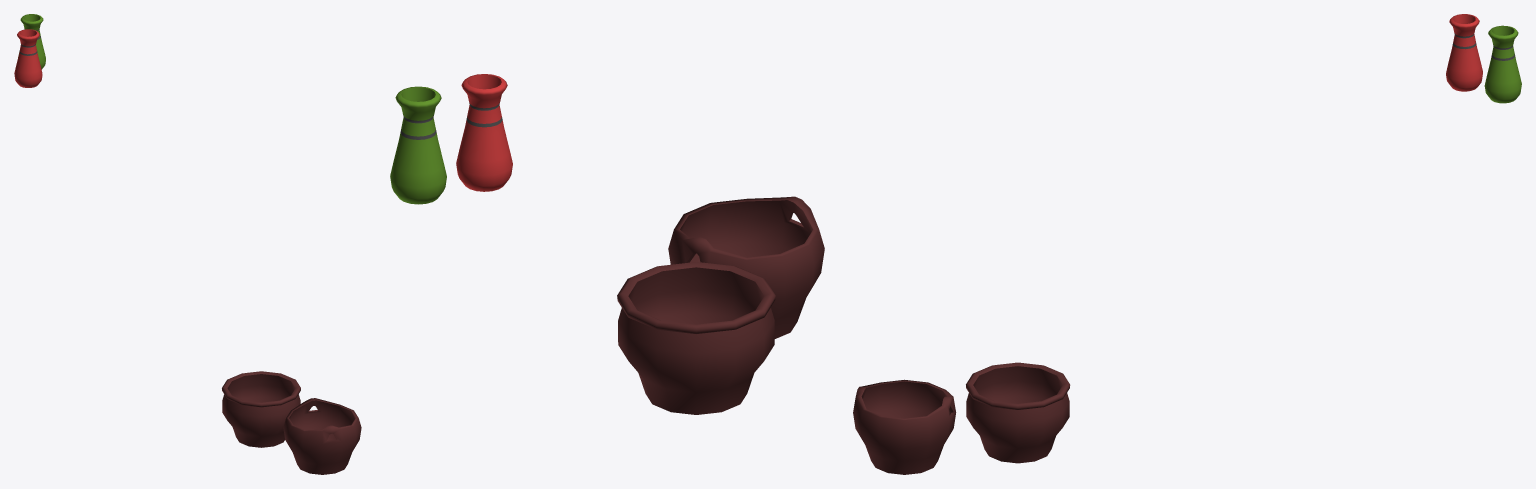
Rendered from objetos_greda_2.fbx.
3 renders of one model, left to right at view 1: azimuth 30°, elevation 25°; view 2: azimuth 150°, elevation 25°; view 3: azimuth 270°, elevation 25°, orthographic. The views are drawn at different scales.
Visible parts, largest first — view 1: pCylinder66, pCylinder67, pCylinder68, pCylinder69; view 2: pCylinder66, pCylinder67, pCylinder69, pCylinder68; view 3: pCylinder66, pCylinder67, pCylinder69, pCylinder68.
Part boxes in pixels (x1,y1,x2,y2): pCylinder66: (222,371,300,447); pCylinder67: (283,398,361,474); pCylinder68: (14,29,42,87); pCylinder69: (18,14,45,69); pCylinder66: (617,262,775,414); pCylinder67: (668,196,824,338); pCylinder69: (390,86,446,204); pCylinder68: (456,74,512,191); pCylinder66: (966,362,1070,463); pCylinder67: (853,379,956,474); pCylinder69: (1484,25,1521,103); pCylinder68: (1446,14,1482,91).
Bounding box in the file's own units: 1.48 × 5.11 × 3.28.
